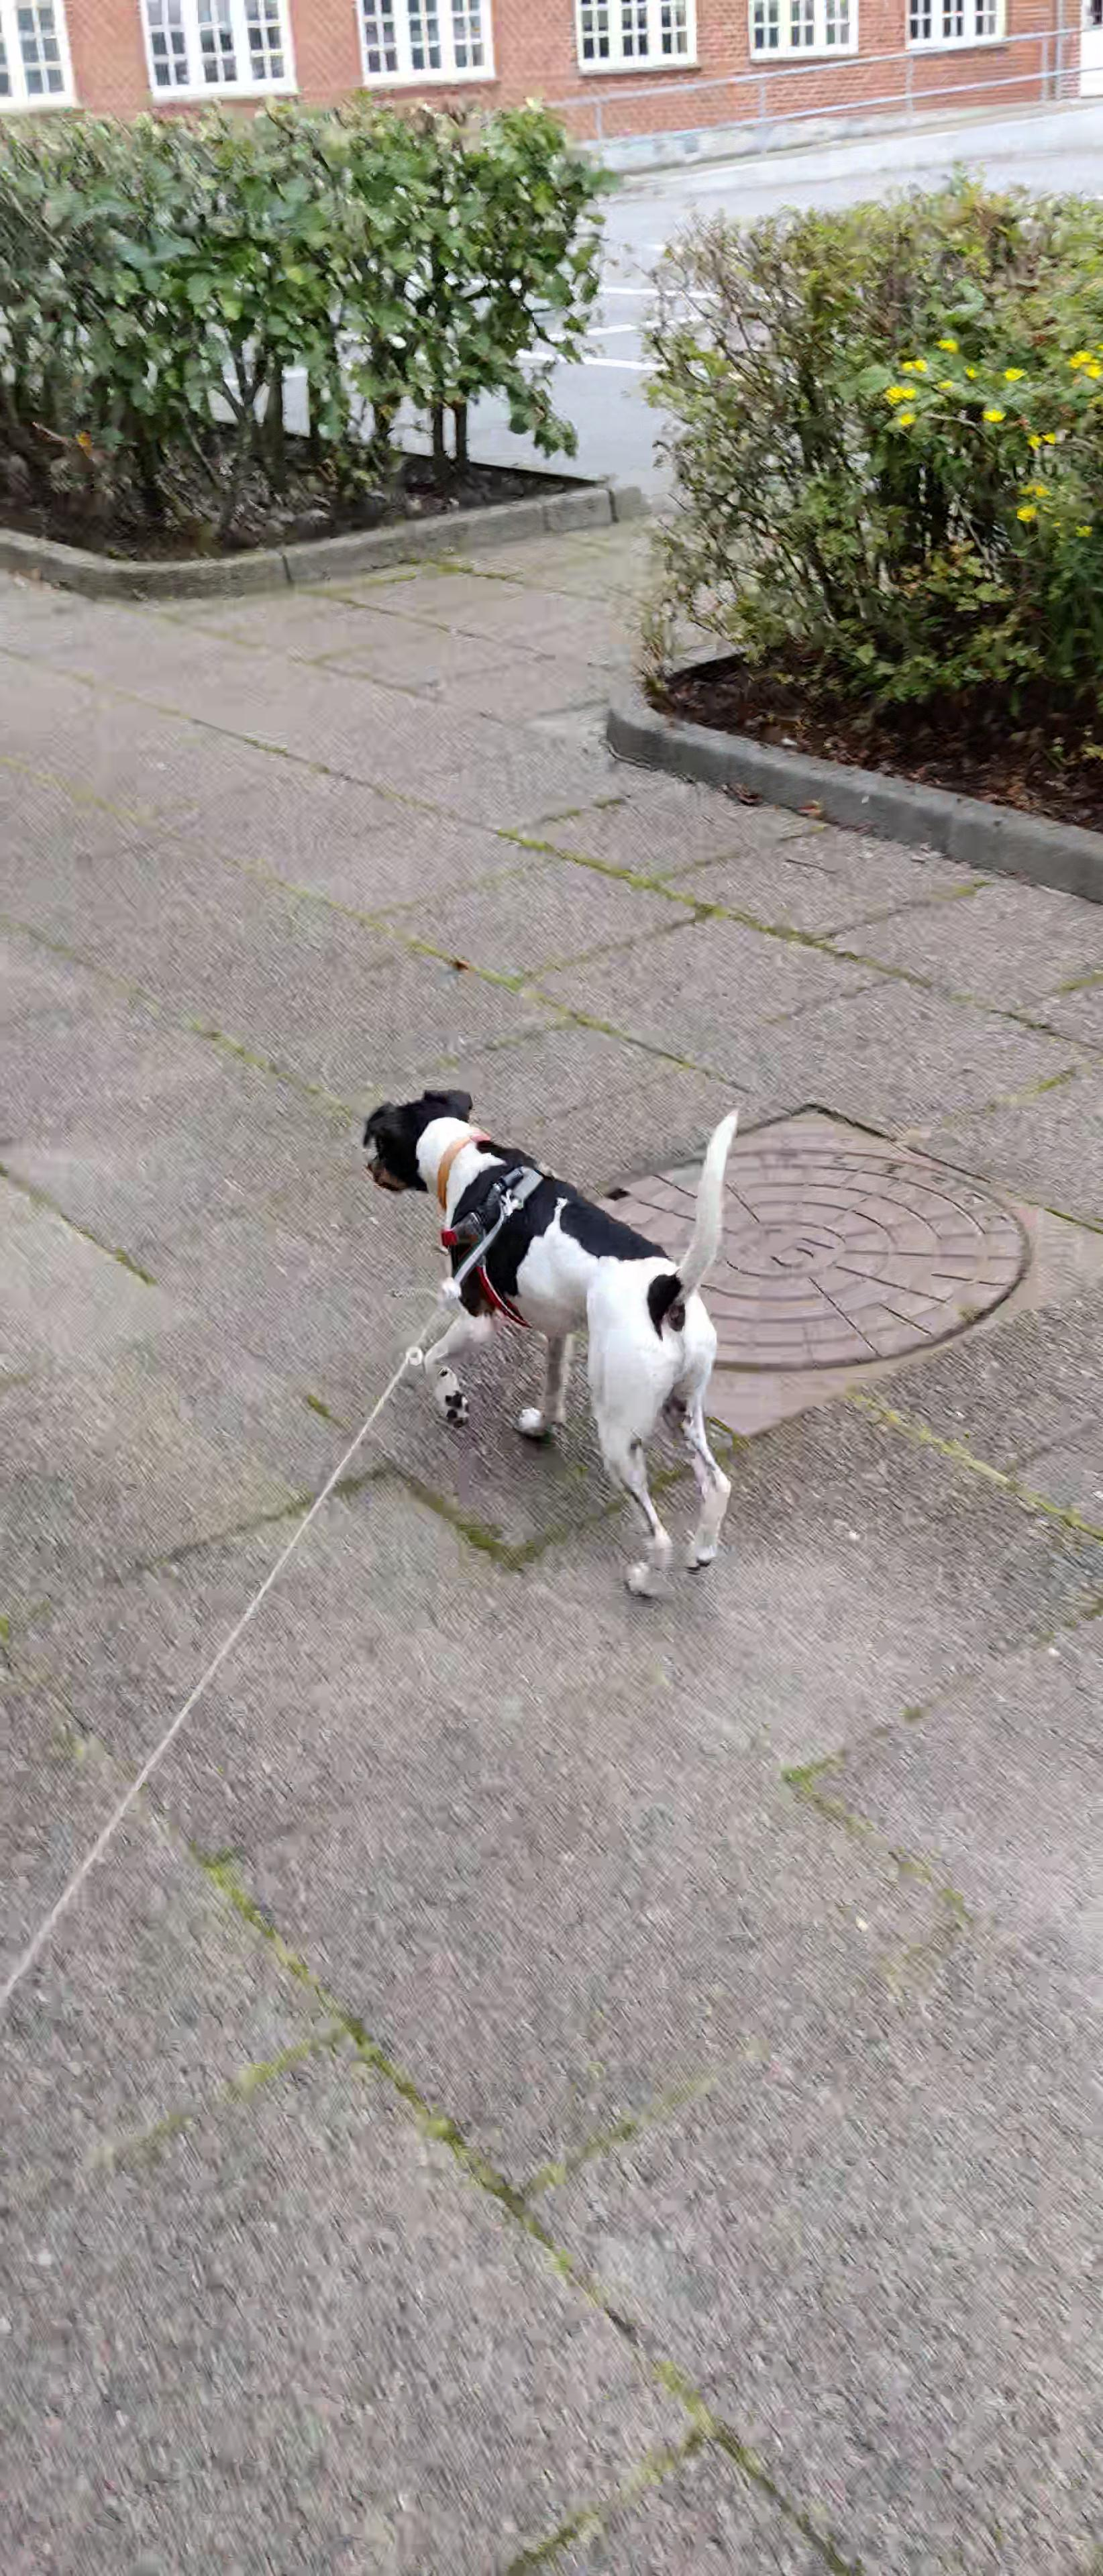Dog: (358, 1081, 753, 1598)
